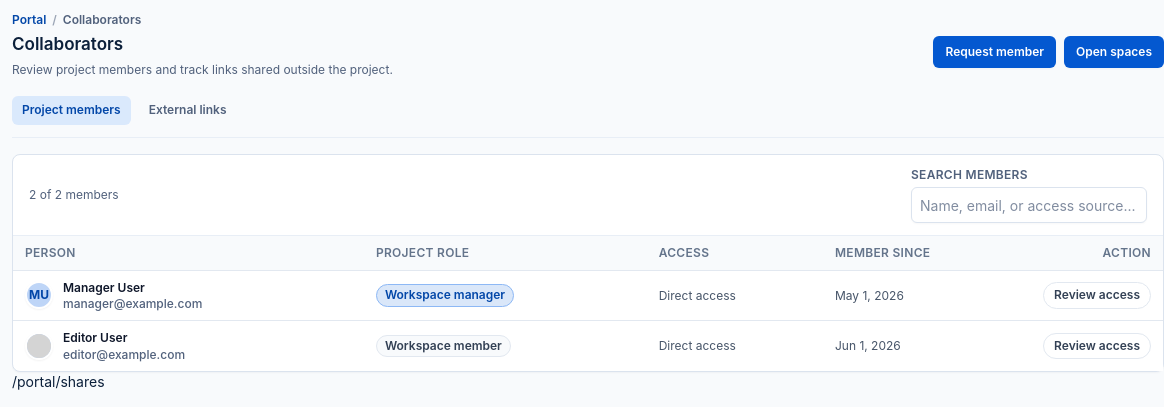
Test case: PortalSharesPage › explains external-link permissions when no managed team space exists
This screenshot has width=1164, height=407.
Click the tab "External links" at (188, 110), box [139,96,236,124]
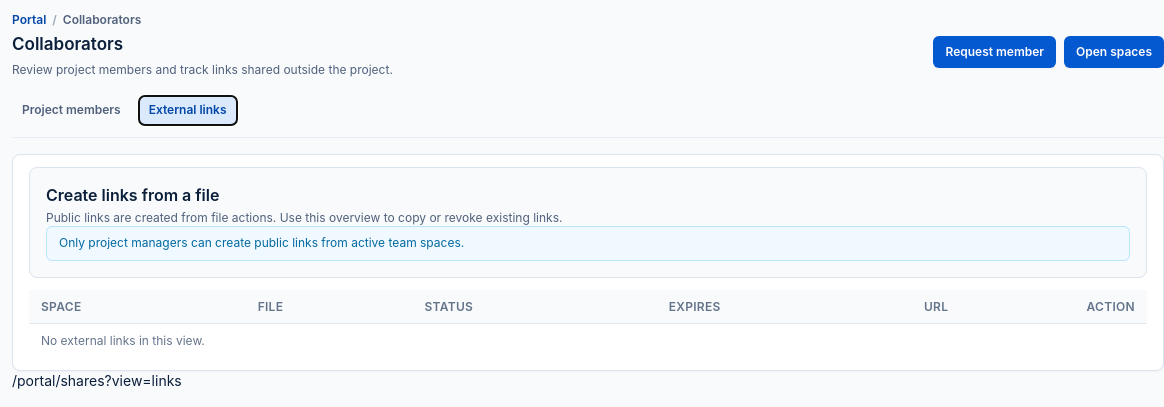
Result: the text "Only project managers can create public links from active team spaces." is shown at [46,226,1130,260]
